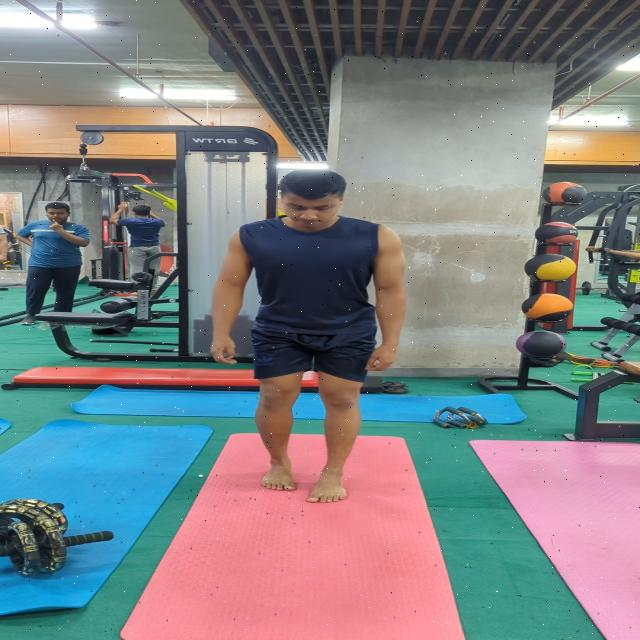Normal_Lunges: (202, 167, 408, 507)
